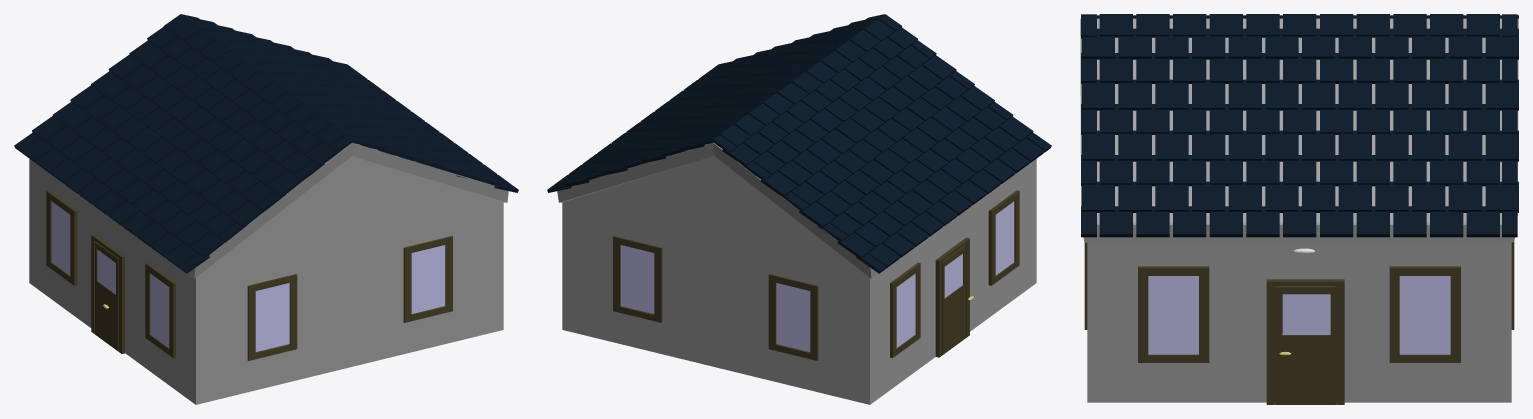
The model's file is AvoidtheHumoidHouse.fbx.
3 renders of one model, left to right at view 1: azimuth 30°, elevation 25°; view 2: azimuth 150°, elevation 25°; view 3: azimuth 270°, elevation 25°, orthographic. The views are drawn at different scales.
Visible parts, largest first — view 1: House, Tiles1, Tiles2, Tiles2.001, SideGlass, SideWindow, Doors, Tiles3, FrontWindow, FrontGlass, DoorWindow, Tiles3.001; view 2: House, Tiles1, Tiles2, Tiles2.001, SideGlass, SideWindow, Doors, FrontWindow, Tiles3, FrontGlass, DoorWindow, Tiles3.001; view 3: House, Tiles1, Tiles2, Tiles2.001, FrontGlass, Doors, FrontWindow, Tiles3, DoorWindow, Tiles3.001, SideWindow.
Part boxes in pixels (box(x1,y1,x2,y2)): House: box(29, 142, 508, 404); Tiles1: box(32, 19, 500, 257); Tiles2: box(21, 30, 511, 268); Tiles2.001: box(171, 19, 361, 146); SideGlass: box(255, 245, 445, 351); SideWindow: box(247, 236, 452, 360); Doors: box(91, 234, 125, 353); Tiles3: box(14, 25, 518, 273); FrontWindow: box(46, 190, 175, 358); FrontGlass: box(51, 201, 169, 347); DoorWindow: box(97, 249, 115, 294); Tiles3.001: box(163, 14, 369, 153); House: box(557, 142, 1036, 404); Tiles1: box(565, 20, 1033, 259); Tiles2: box(554, 31, 1044, 268); Tiles2.001: box(704, 19, 894, 146); SideGlass: box(620, 245, 810, 351); SideWindow: box(613, 236, 818, 360); Doors: box(935, 237, 969, 357); FrontWindow: box(890, 190, 1019, 358); Tiles3: box(547, 25, 1051, 273); FrontGlass: box(896, 201, 1014, 347); DoorWindow: box(944, 254, 962, 297); Tiles3.001: box(696, 14, 902, 152); House: box(1080, 18, 1518, 402); Tiles1: box(1081, 15, 1518, 212); Tiles2: box(1099, 53, 1499, 237); Tiles2.001: box(1099, 14, 1499, 37); FrontGlass: box(1148, 276, 1450, 354); Doors: box(1266, 279, 1344, 404); FrontWindow: box(1138, 266, 1460, 362); Tiles3: box(1081, 53, 1517, 237); DoorWindow: box(1282, 294, 1330, 334); Tiles3.001: box(1081, 14, 1517, 38); SideWindow: box(1084, 242, 1514, 329).
Bounding box in the file's own units: 2112 × 1382 × 1878.
